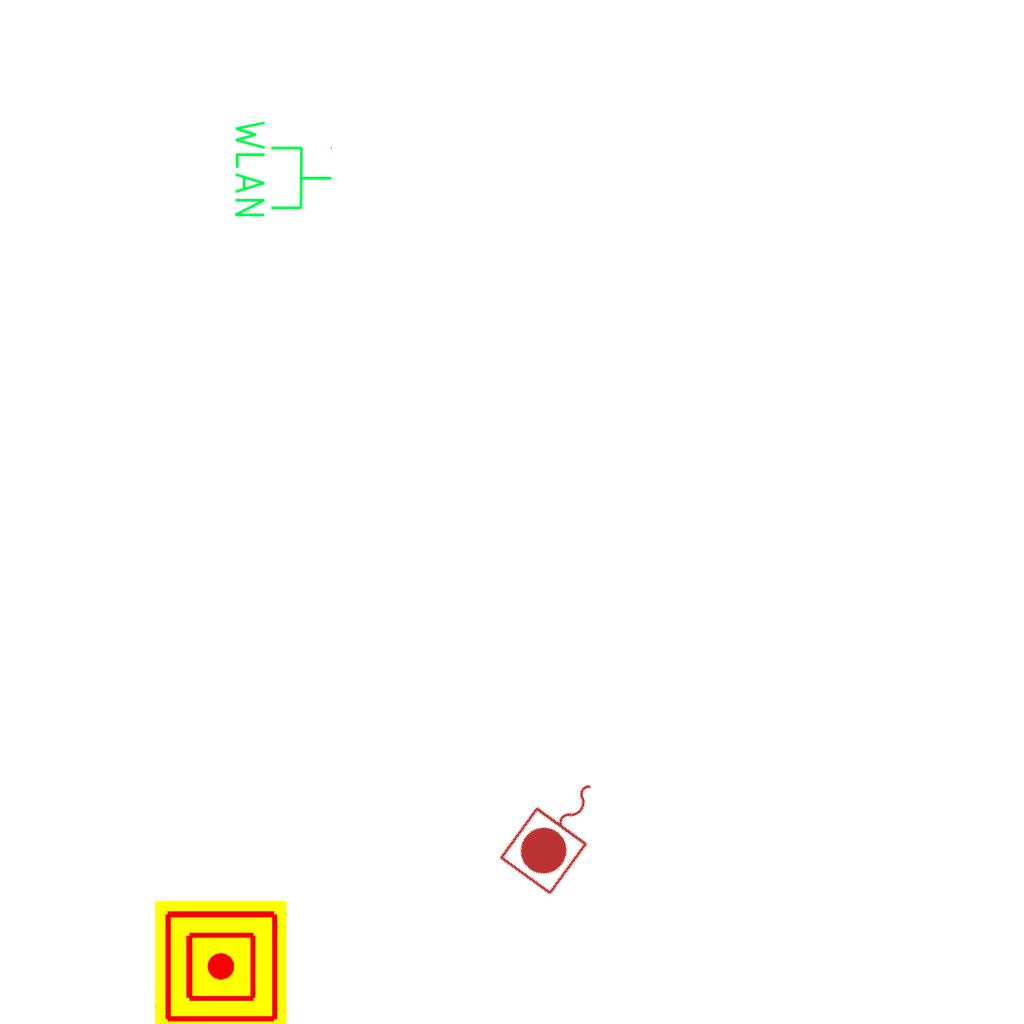NAM-Nichtautomatischer_Melder: (155, 900, 287, 1024)
WLAN: (231, 116, 335, 221)
Zugtaster: (494, 760, 624, 902)
